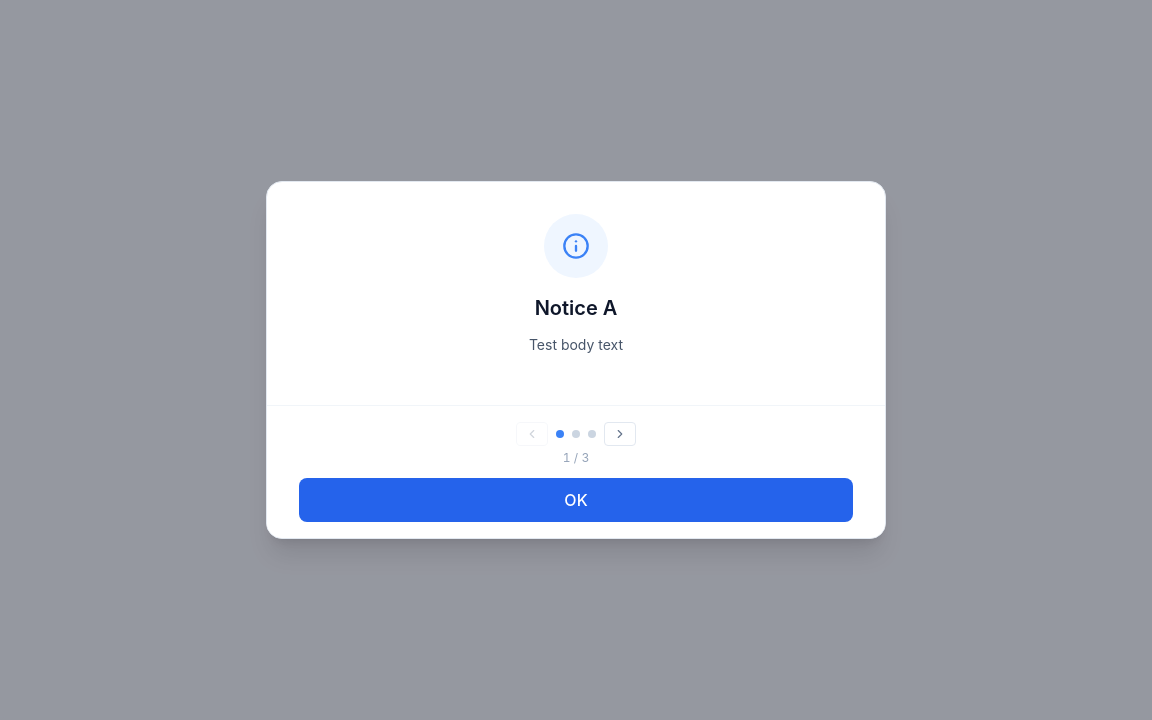
ModalRenderer › FE-SN-MODAL-011: next button advances to the next notice; prev returns
expect the text "1 / 3" is shown: met, box [563, 450, 589, 466]
expect the heading "Notice A" is shown: met, box [535, 296, 617, 320]
Navigate to page 2
Click the button named "Next notice": [620, 434] box [604, 422, 636, 446]
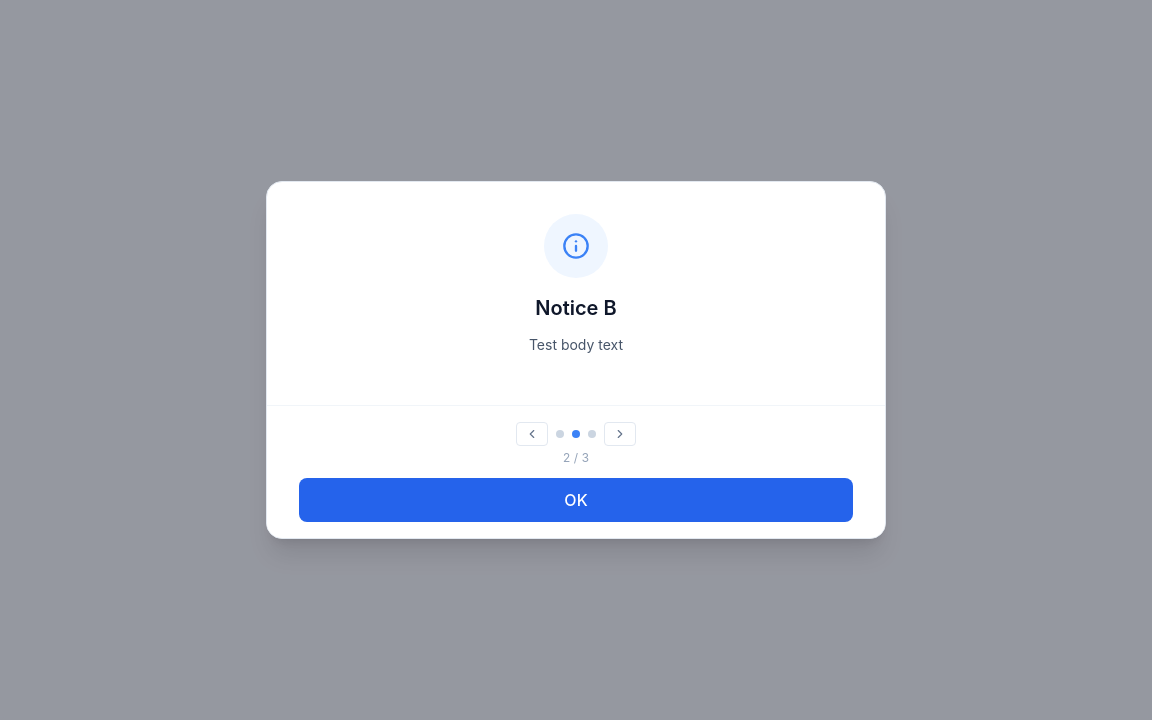
expect the text "2 / 3" is shown: met, box [563, 450, 589, 466]
expect the heading "Notice B" is shown: met, box [535, 296, 617, 320]
Navigate back to page 1
Click the button named "Previous notice": [532, 434] box [516, 422, 548, 446]
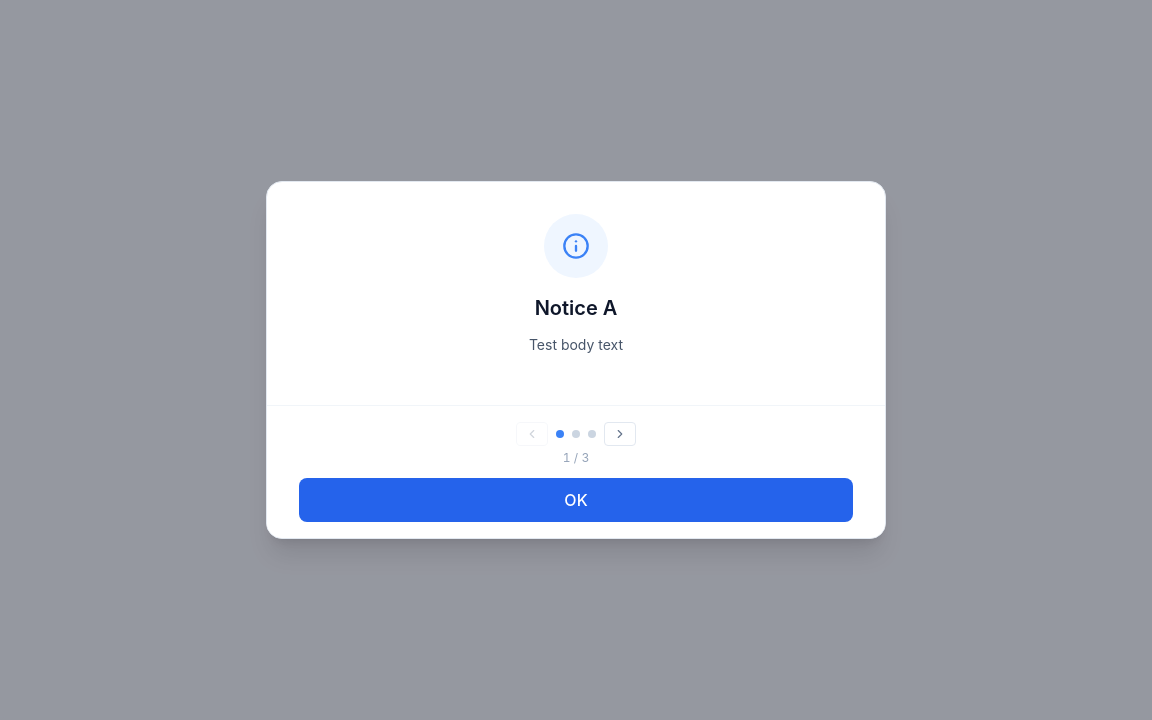
expect the text "1 / 3" is shown: met, box [563, 450, 589, 466]
expect the heading "Notice A" is shown: met, box [535, 296, 617, 320]
